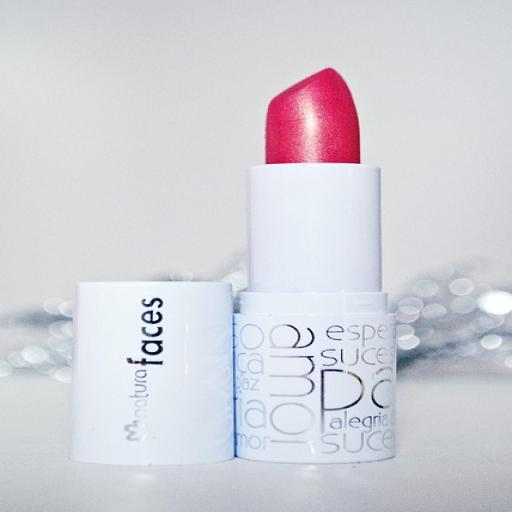lipstick: (235, 69, 394, 463)
